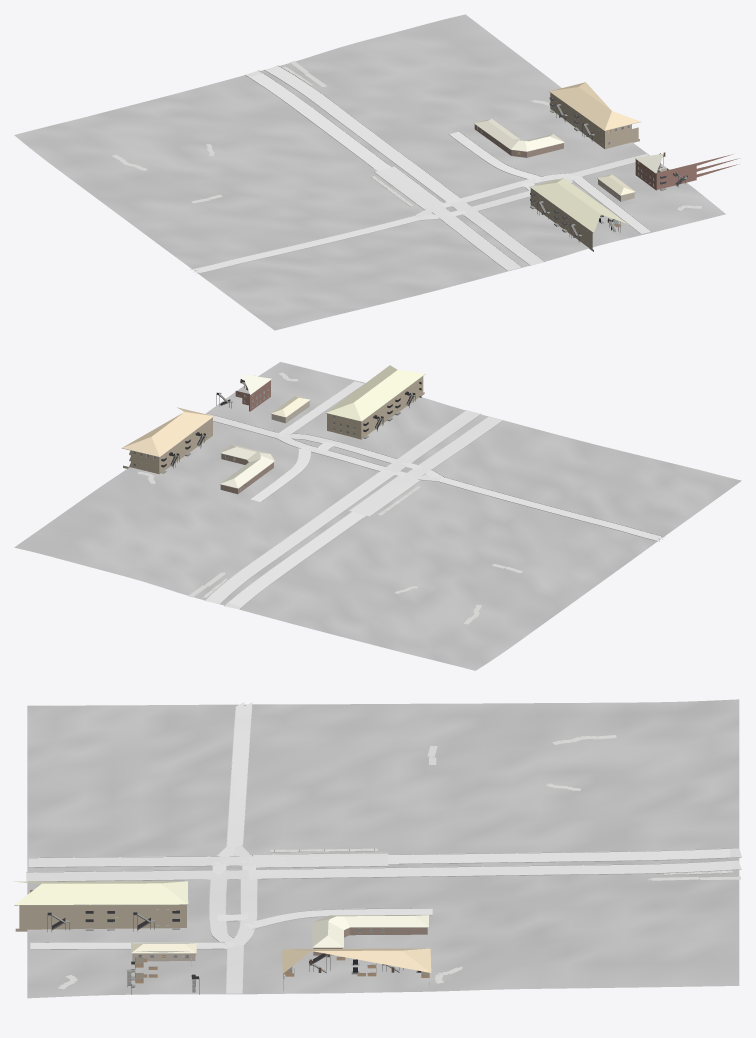
The picture shows the model from 3 angles, top to bottom: view 1: azimuth 30°, elevation 25°; view 2: azimuth 150°, elevation 25°; view 3: azimuth 270°, elevation 25°; orthographic projection. The views are drawn at different scales.
Visible parts, largest first — view 1: ground, asphalt, roof, concrete, wall, curb, detail, walk; view 2: ground, asphalt, roof, concrete, wall, curb, detail, walk; view 3: ground, asphalt, roof, concrete, curb, wall, walk, detail, mark_w, mark_y, room.
Boxes of the visible parts, x1,y1,x2,y2 form: ground: [14, 14, 725, 330]; asphalt: [246, 65, 544, 270]; roof: [474, 82, 663, 232]; concrete: [190, 131, 650, 272]; wall: [474, 93, 740, 251]; curb: [192, 65, 651, 273]; detail: [474, 91, 687, 242]; walk: [112, 61, 701, 210]; ground: [14, 362, 741, 670]; asphalt: [205, 410, 501, 609]; roof: [122, 365, 425, 488]; concrete: [206, 381, 663, 541]; wall: [123, 376, 424, 494]; curb: [204, 381, 663, 609]; detail: [122, 374, 425, 490]; walk: [138, 372, 523, 624]; ground: [27, 699, 739, 998]; asphalt: [26, 848, 741, 881]; roof: [14, 881, 431, 973]; concrete: [30, 702, 432, 993]; curb: [26, 703, 741, 992]; wall: [15, 905, 427, 990]; walk: [58, 735, 740, 989]; detail: [14, 904, 429, 994]; mark_w: [26, 848, 740, 881]; mark_y: [26, 856, 740, 872]; room: [30, 890, 429, 983].
Size of the model in its own units: 283 by 18.91 by 256.
